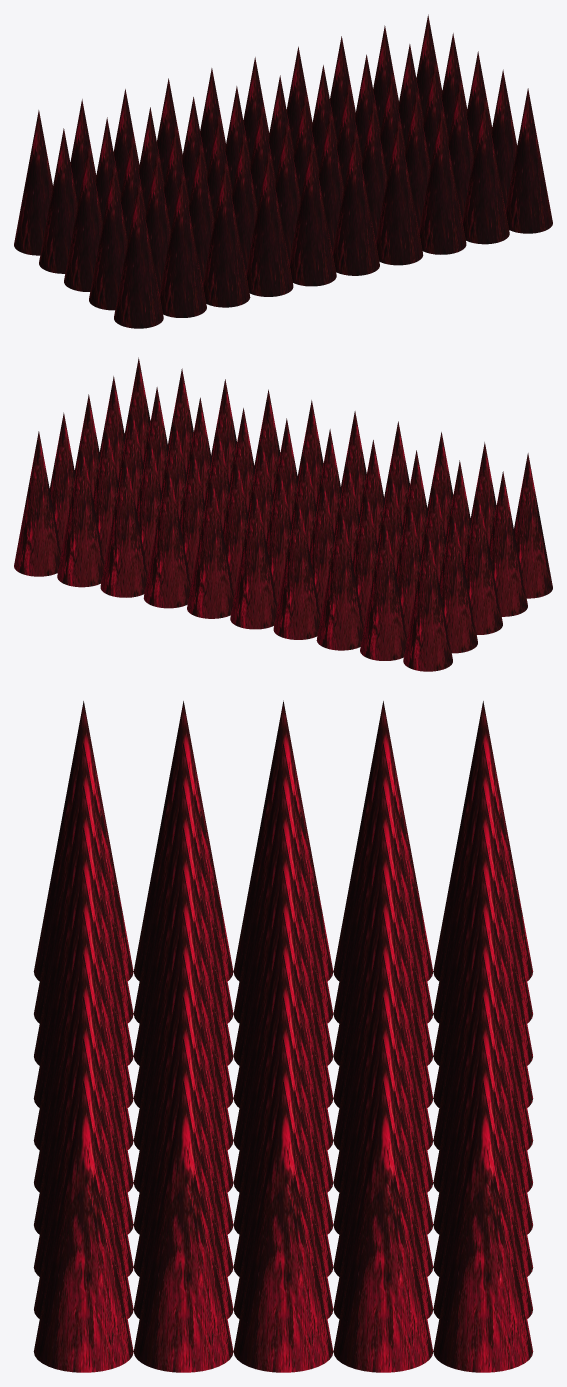
The model's file is duri.glb.
The picture shows the model from 3 angles, top to bottom: view 1: azimuth 30°, elevation 25°; view 2: azimuth 150°, elevation 25°; view 3: azimuth 270°, elevation 25°; orthographic projection. The views are drawn at different scales.
Visible parts, largest first — view 1: Cone; view 2: Cone; view 3: Cone.
Part boxes in pixels (x1,y1,x2,y2): Cone: (14, 14, 552, 328); Cone: (14, 357, 552, 671); Cone: (33, 700, 533, 1372).
Size of the model in its own units: 1 by 0.3 by 0.5.
Materials: 1 (1 with a texture image).
